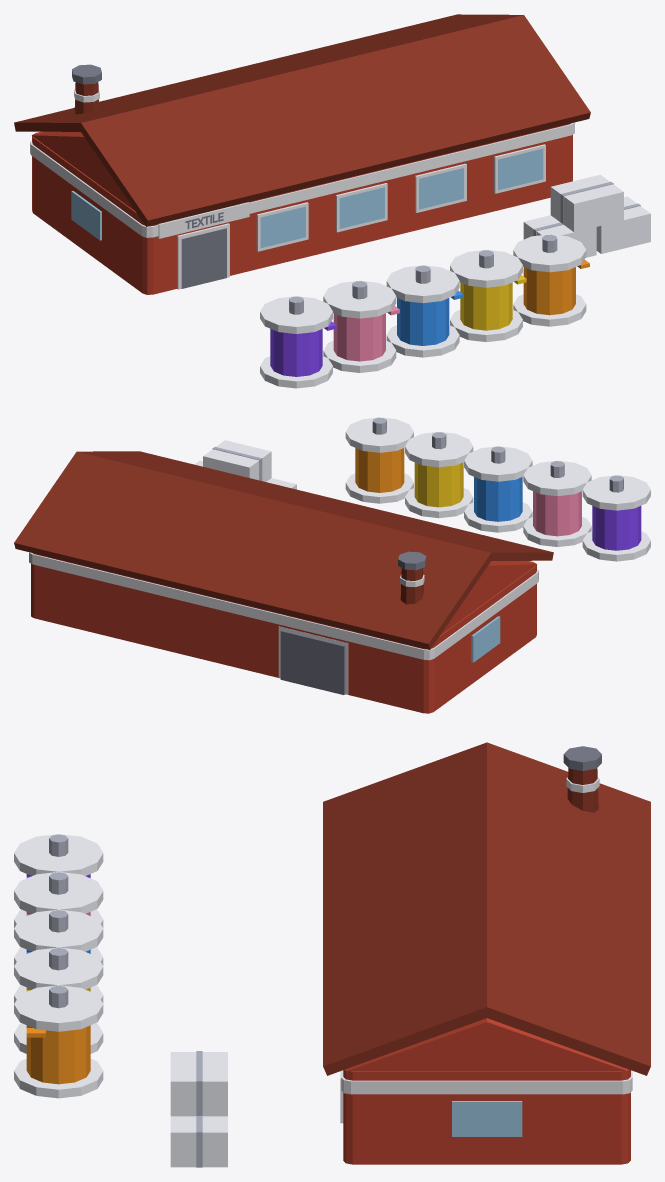
Rendered from textile-mill-2x2-t5-tone-a.glb.
3 views of the same model, one above another, from view 1: azimuth 30°, elevation 25°; view 2: azimuth 150°, elevation 25°; view 3: azimuth 270°, elevation 25° (orthographic). The views are drawn at different scales.
Parts seen in each view (by area): view 1: textile-mill-2x2-t5-tone-a; view 2: textile-mill-2x2-t5-tone-a; view 3: textile-mill-2x2-t5-tone-a.
Boxes of the visible parts, left/top/right/bottom form: textile-mill-2x2-t5-tone-a: left=14, top=14, right=650, bottom=388; textile-mill-2x2-t5-tone-a: left=14, top=417, right=650, bottom=713; textile-mill-2x2-t5-tone-a: left=14, top=742, right=650, bottom=1167.
Size of the model in its own units: 1.96 by 0.61 by 1.99.
Materials: 1 (1 with a texture image).
